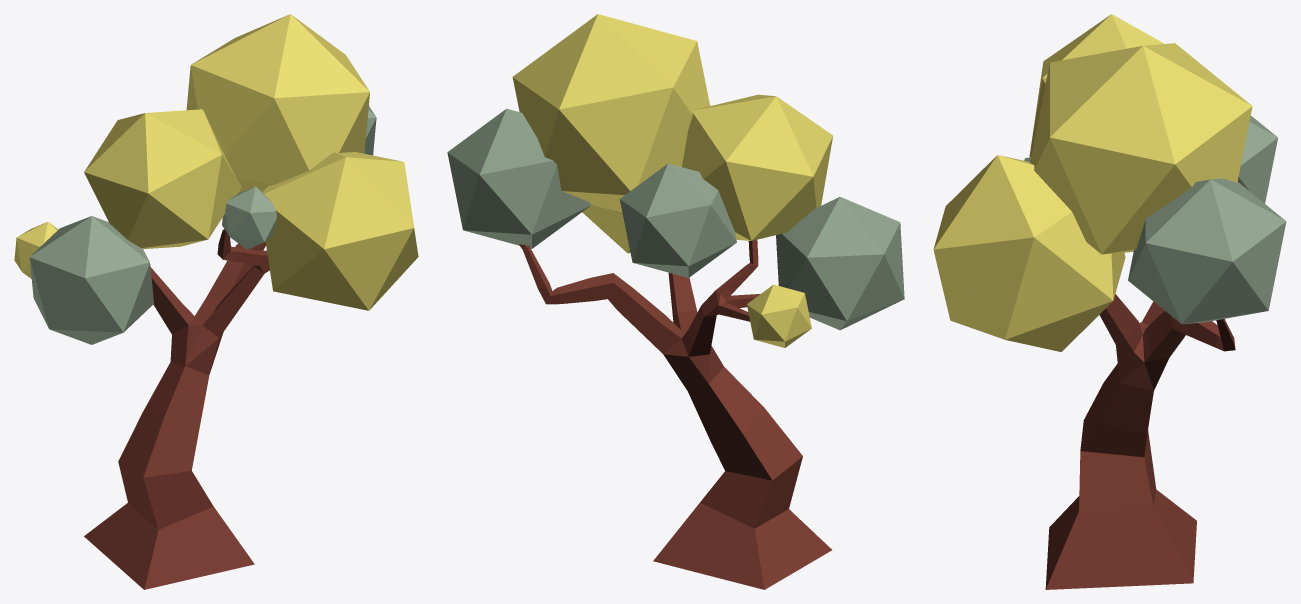
The model's file is albero1.glb.
3 views of the same model, side by side, from view 1: azimuth 30°, elevation 25°; view 2: azimuth 150°, elevation 25°; view 3: azimuth 270°, elevation 25° (orthographic). The views are drawn at different scales.
Parts seen in each view (by area): view 1: Cube, Icosphere.002, Icosphere.004, Icosphere.001, Icosphere, Icosphere.007, Icosphere.006; view 2: Cube, Icosphere.002, Icosphere.001, Icosphere, Icosphere.003, Icosphere.005, Icosphere.006, Icosphere.004; view 3: Icosphere.002, Cube, Icosphere.004, Icosphere.003, Icosphere.001, Icosphere.005.
Boxes of the visible parts, box(x1,y1,x2,y2) form: Cube: box(84, 229, 269, 589); Icosphere.002: box(186, 14, 369, 193); Icosphere.004: box(263, 152, 418, 310); Icosphere.001: box(84, 109, 241, 248); Icosphere: box(29, 216, 153, 344); Icosphere.007: box(222, 186, 276, 249); Icosphere.006: box(14, 222, 58, 278); Cube: box(519, 240, 831, 589); Icosphere.002: box(512, 14, 709, 212); Icosphere.001: box(682, 94, 832, 240); Icosphere: box(776, 197, 904, 330); Icosphere.003: box(447, 108, 590, 248); Icosphere.005: box(619, 163, 736, 277); Icosphere.006: box(747, 284, 811, 347); Icosphere.004: box(582, 105, 710, 253); Icosphere.002: box(1030, 43, 1252, 254); Cube: box(1045, 294, 1235, 589); Icosphere.004: box(933, 155, 1125, 352); Icosphere.003: box(1128, 178, 1286, 324); Icosphere.001: box(1029, 14, 1164, 157); Icosphere.005: box(1237, 115, 1277, 203).
Size of the model in its own units: 4.97 by 6.34 by 3.45.
